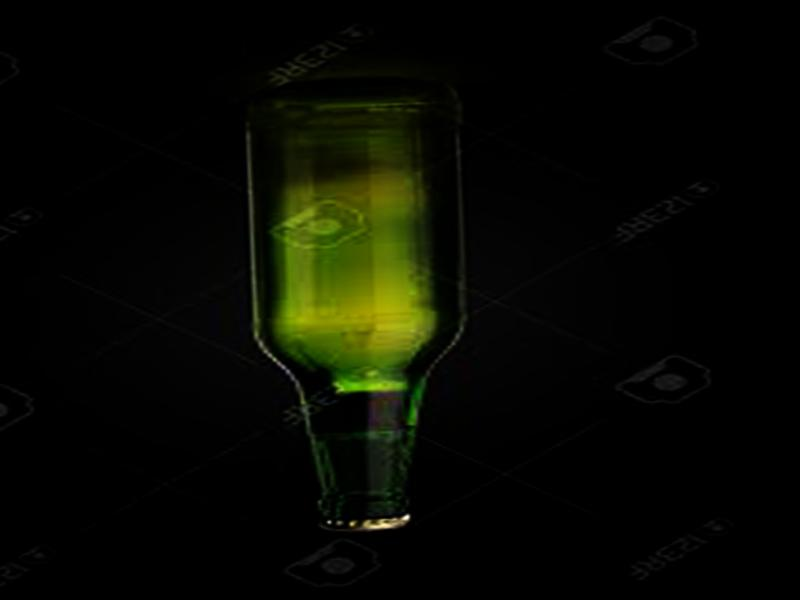Beer: (238, 78, 471, 536)
